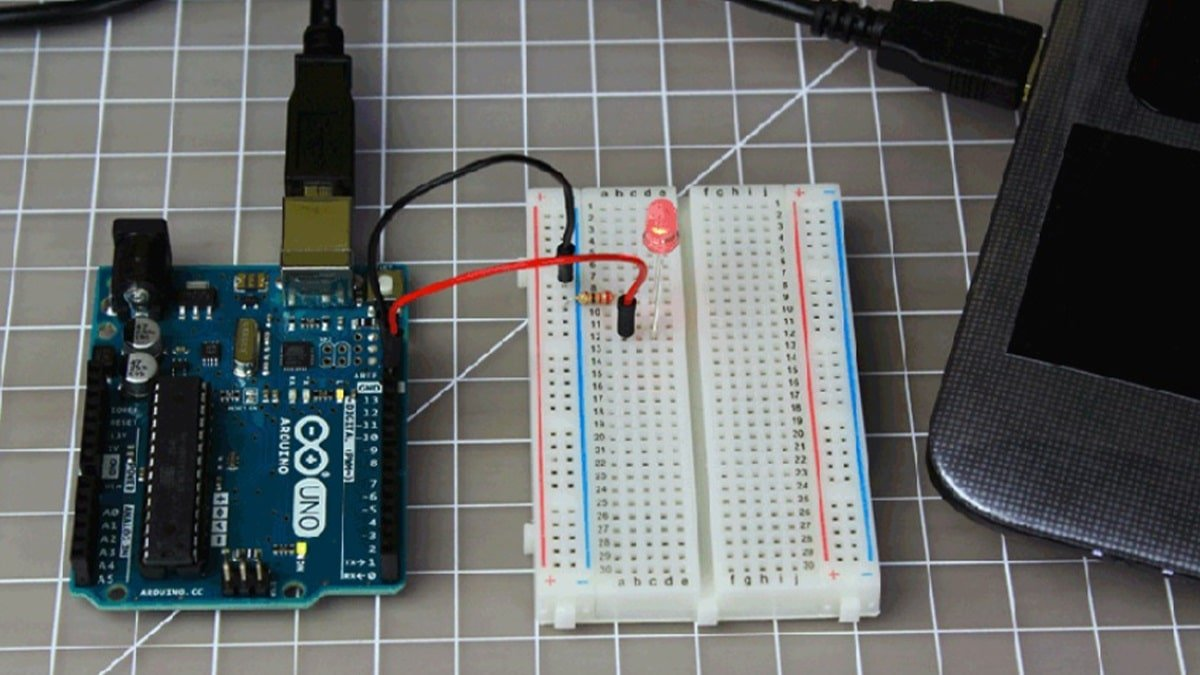Arduino: (62, 214, 415, 612)
Protoboard: (518, 176, 888, 630)
